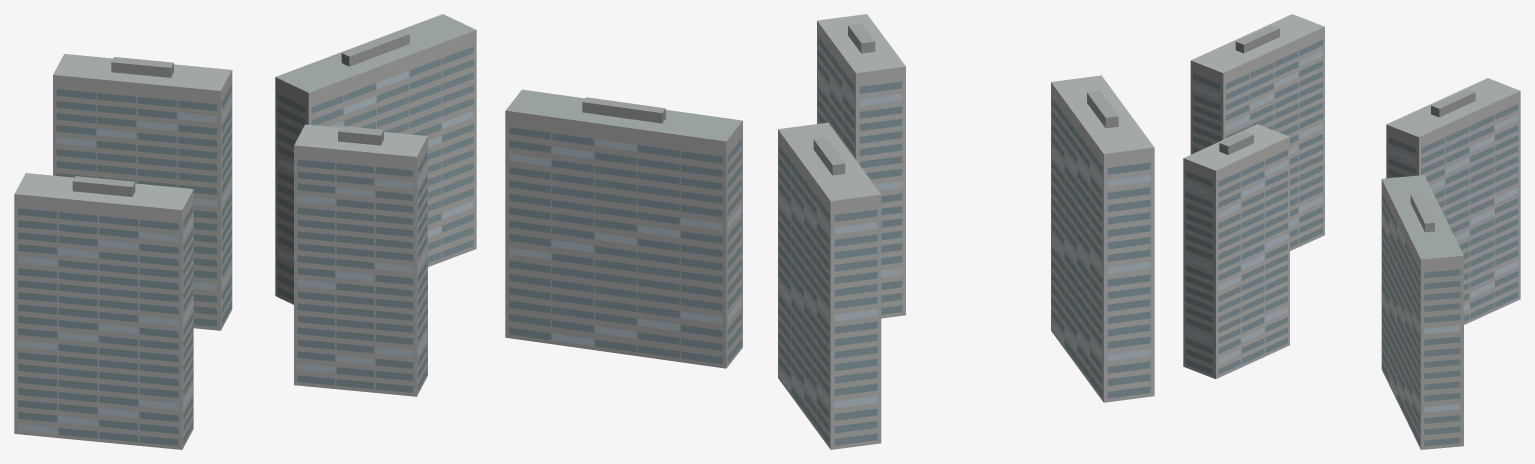
The model's file is apt-a13606102.glb.
3 views of the same model, side by side, from view 1: azimuth 30°, elevation 25°; view 2: azimuth 150°, elevation 25°; view 3: azimuth 270°, elevation 25° (orthographic). The views are drawn at different scales.
Parts seen in each view (by area): view 1: apt-a13606102; view 2: apt-a13606102; view 3: apt-a13606102.
Boxes of the visible parts, x1,y1,x2,y2 form: apt-a13606102: [14, 14, 476, 449]; apt-a13606102: [505, 14, 1154, 449]; apt-a13606102: [1183, 14, 1520, 449].
Bounding box in the file's own units: 135 × 60 × 84.37.
